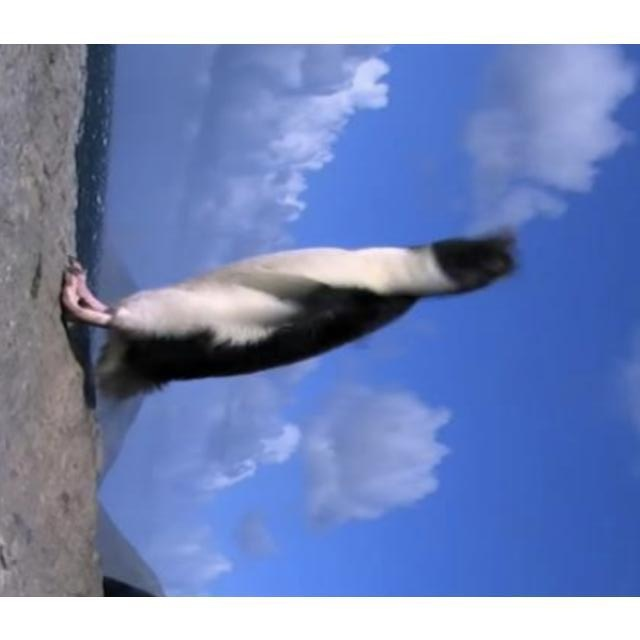penguin: (58, 227, 519, 400)
